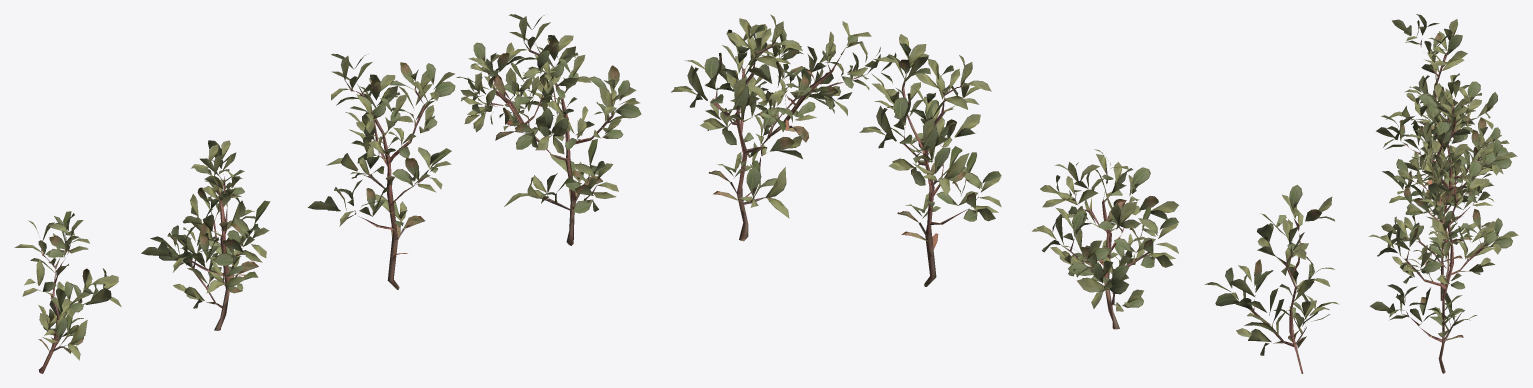
The model's file is shrub_04_1k_lo.glb.
The picture shows the model from 3 angles, left to right: view 1: azimuth 30°, elevation 25°; view 2: azimuth 150°, elevation 25°; view 3: azimuth 270°, elevation 25°; orthographic projection. The views are drawn at different scales.
Visible parts, largest first — view 1: shrub_04; view 2: shrub_04; view 3: shrub_04.
Part boxes in pixels (x1,y1,x2,y2): shrub_04: (14, 14, 641, 373); shrub_04: (671, 14, 1338, 373); shrub_04: (1368, 14, 1518, 373).
Bounding box in the file's own units: 0.5837 × 0.2192 × 0.1461.
1 material, 1 textured.
